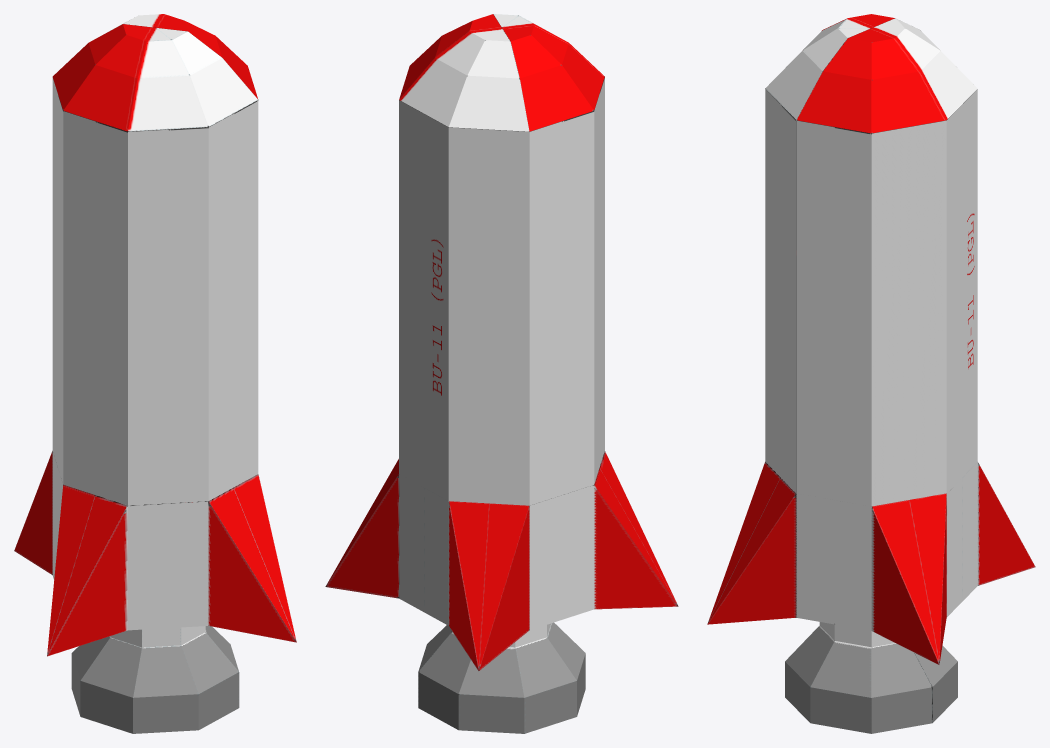
File: ianus_inc_rocket_bullpgl.obj
3 renders of one model, left to right at view 1: azimuth 30°, elevation 25°; view 2: azimuth 150°, elevation 25°; view 3: azimuth 270°, elevation 25°, orthographic.
Visible parts, largest first — view 1: Circle_Circle.001; view 2: Circle_Circle.001; view 3: Circle_Circle.001.
Boxes of the visible parts, x1=… form: Circle_Circle.001: x1=14, y1=14, x2=296, y2=733; Circle_Circle.001: x1=325, y1=14, x2=678, y2=733; Circle_Circle.001: x1=707, y1=14, x2=1035, y2=733.
Size of the model in its own units: 0.826 by 1.86 by 0.826.
